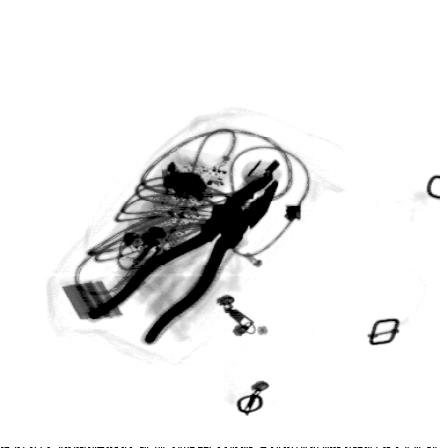Pliers: (85, 172, 280, 347)
